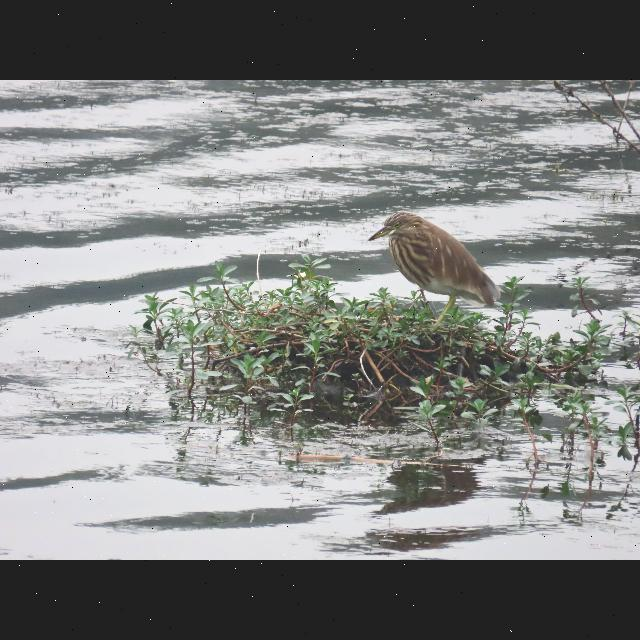heron: (358, 202, 506, 320)
